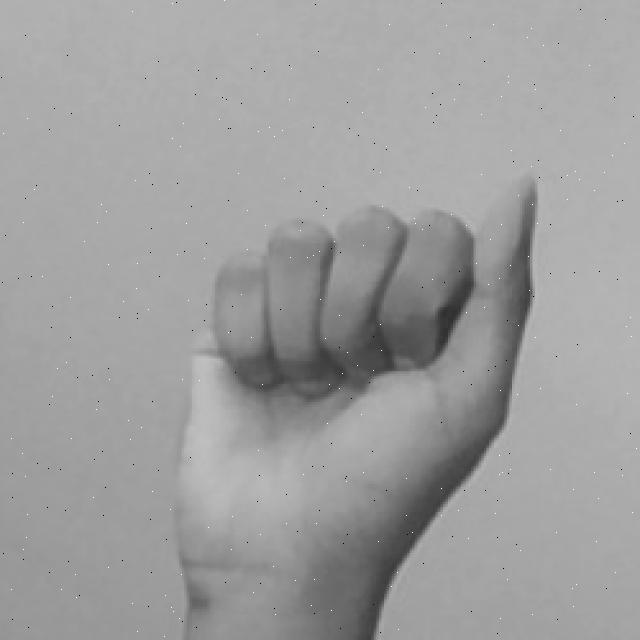A: (156, 170, 561, 640)
